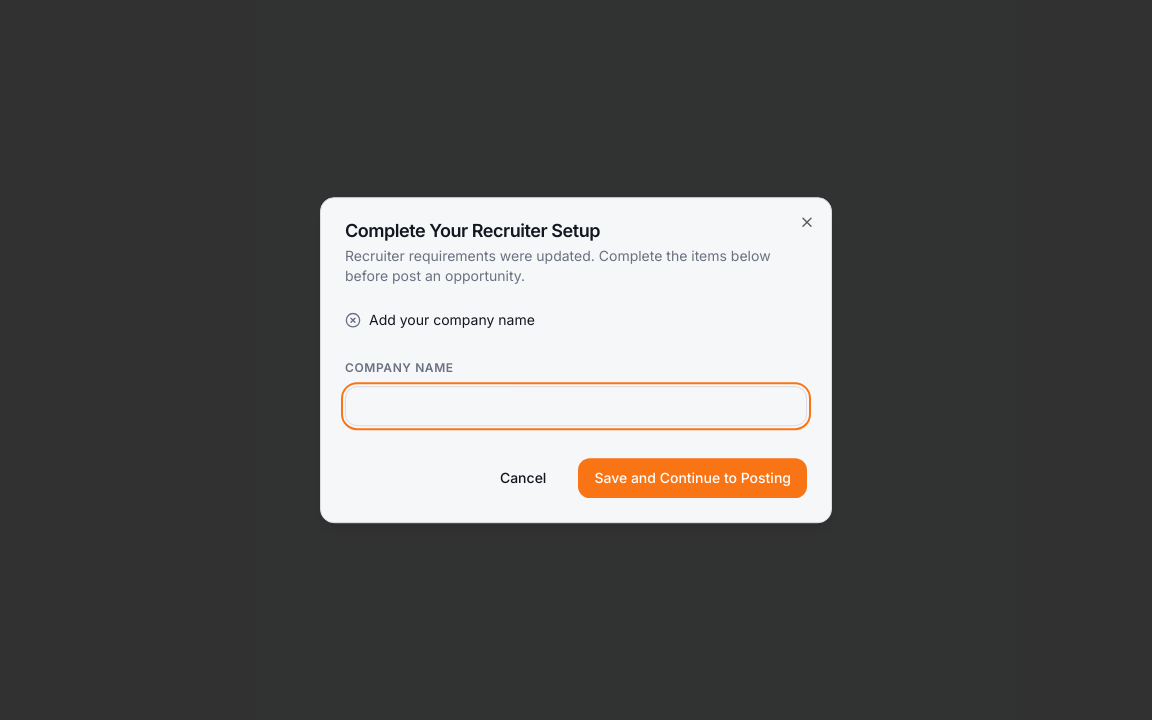
it: Phase 1P-A4 — Legacy recruiter inline readiness dialog › safe error formatter surfaces the true underlying reason (Error.cause.message)
Type "Acme" into the field with test id "rr-company-name" at (576, 406), box [345,386,807,426]
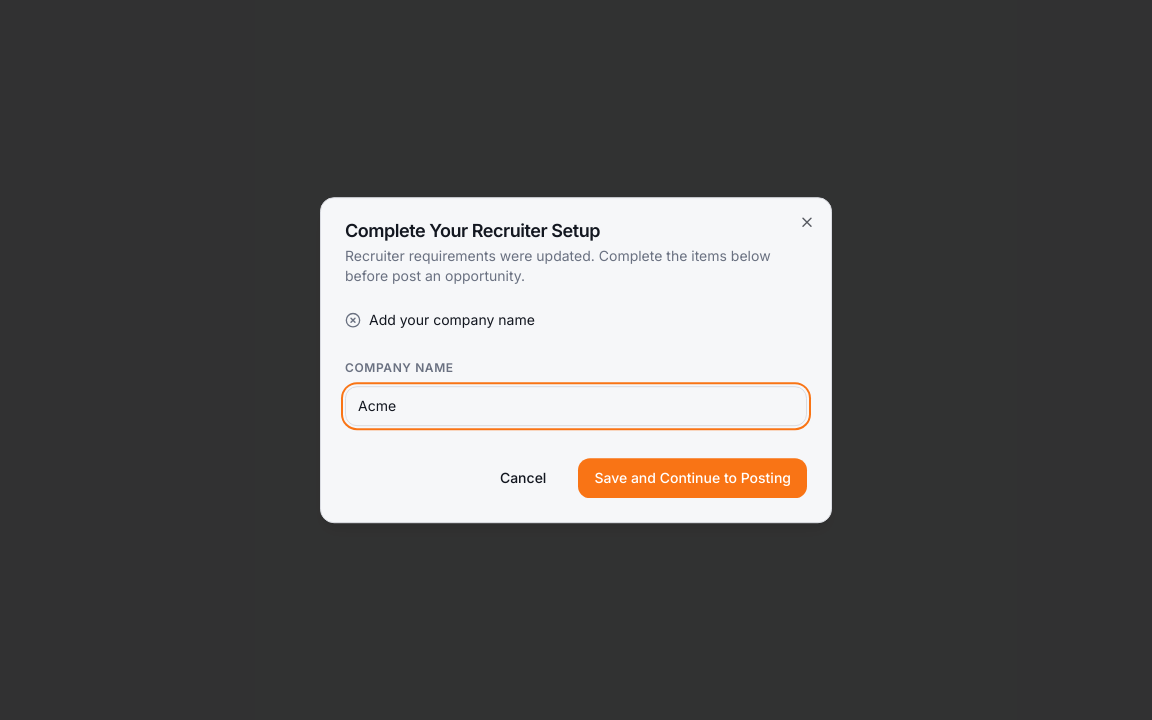
Click the button with test id "readiness-dialog-primary" at (693, 478), box [578,458,807,498]
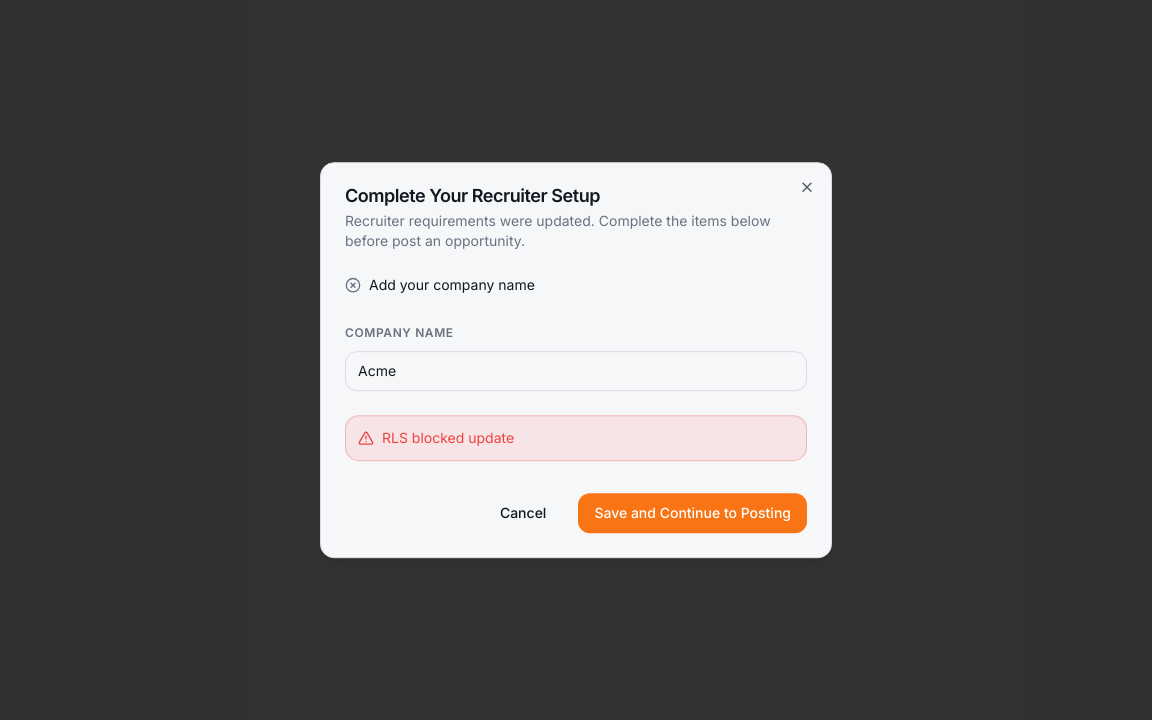
Check: the element with test id "readiness-error" reads "RLS blocked update", box [382,429,514,446]
